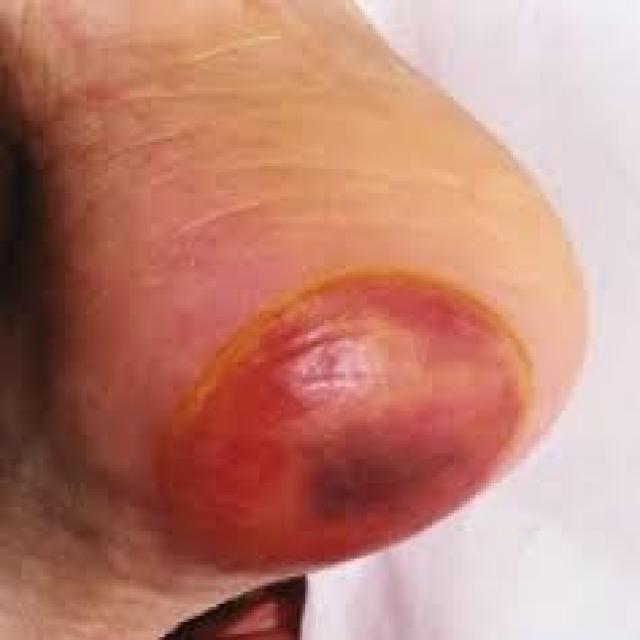DTI: (162, 271, 528, 578)
